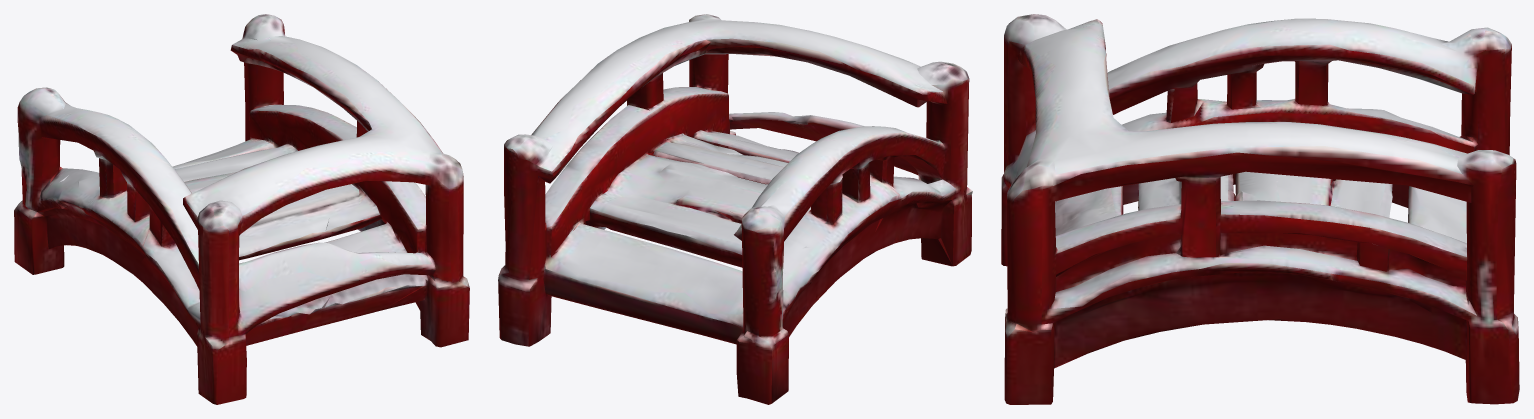
File: bridge.glb
The picture shows the model from 3 angles, left to right: view 1: azimuth 30°, elevation 25°; view 2: azimuth 150°, elevation 25°; view 3: azimuth 270°, elevation 25°; orthographic projection. The views are drawn at different scales.
Parts seen in each view (by area): view 1: bridge; view 2: bridge; view 3: bridge.
Part boxes in pixels (left/top/right/bottom): bridge: left=14, top=14, right=469, bottom=404; bridge: left=498, top=14, right=972, bottom=404; bridge: left=1001, top=14, right=1519, bottom=404.
Size of the model in its own units: 1.48 by 1.1 by 1.96.
Materials: 1 (1 with a texture image).
